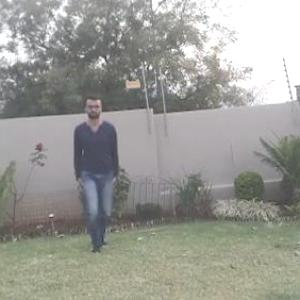follow: (74, 94, 126, 246)
